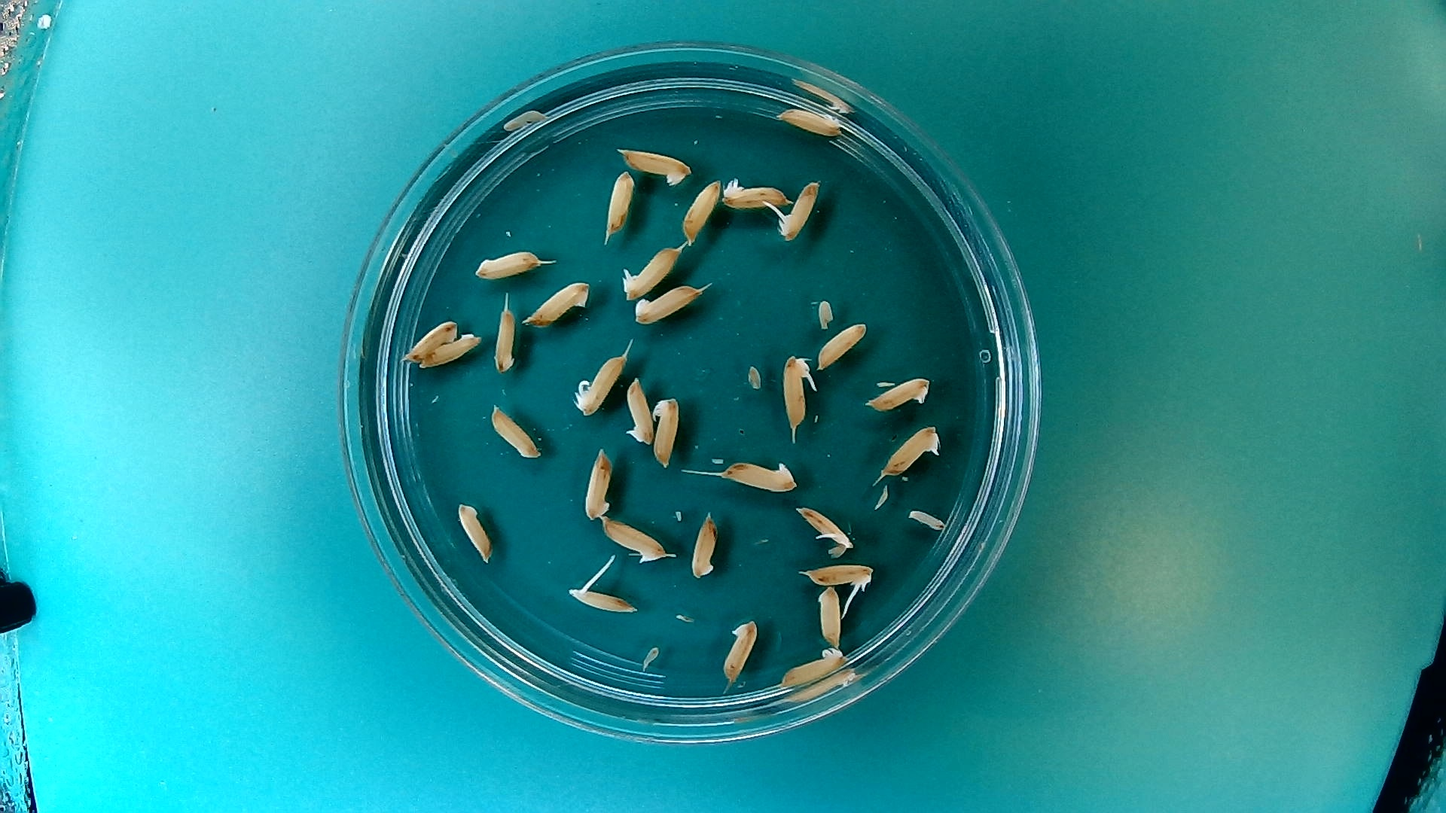no: (631, 279, 711, 325), (523, 275, 593, 326), (615, 143, 694, 187), (717, 454, 801, 494), (601, 516, 669, 565), (487, 403, 542, 461), (679, 175, 723, 246), (471, 243, 550, 282), (718, 615, 760, 688), (778, 644, 848, 687), (718, 172, 794, 210), (862, 373, 934, 413), (580, 442, 615, 522), (416, 330, 484, 370), (815, 324, 870, 372), (398, 319, 459, 361), (601, 166, 637, 237), (455, 500, 493, 565), (775, 102, 844, 137), (688, 506, 719, 580), (493, 301, 519, 376), (816, 584, 846, 647)
yes: (572, 347, 630, 417), (619, 241, 685, 300), (876, 423, 944, 479), (773, 173, 823, 244), (795, 501, 857, 553), (778, 349, 815, 434), (563, 575, 640, 614), (798, 559, 876, 595), (623, 371, 657, 447), (650, 391, 679, 470)
